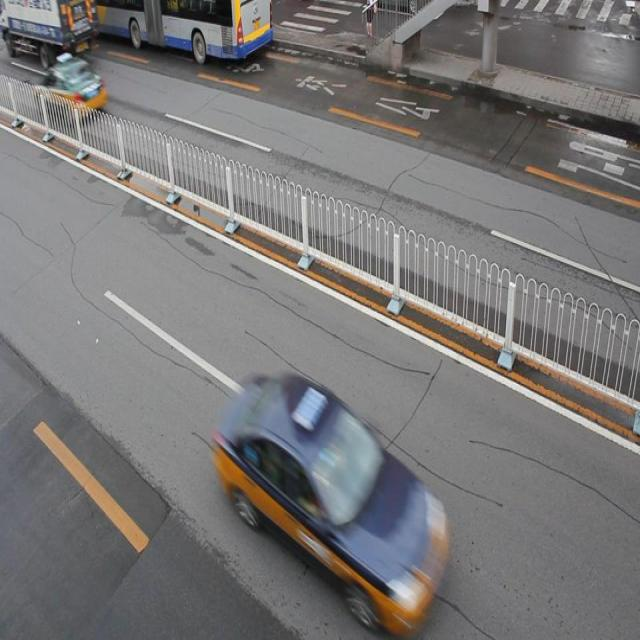bus: (0, 1, 94, 65)
car: (221, 374, 447, 610), (34, 56, 107, 125)
van: (70, 1, 272, 59)
